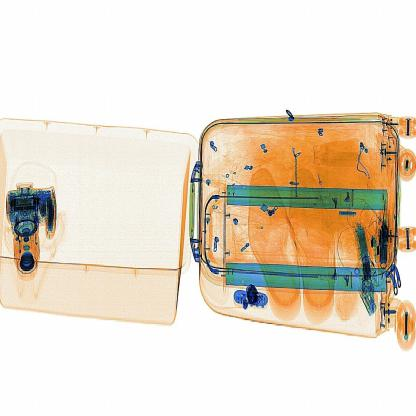scissors: (238, 272, 278, 313)
